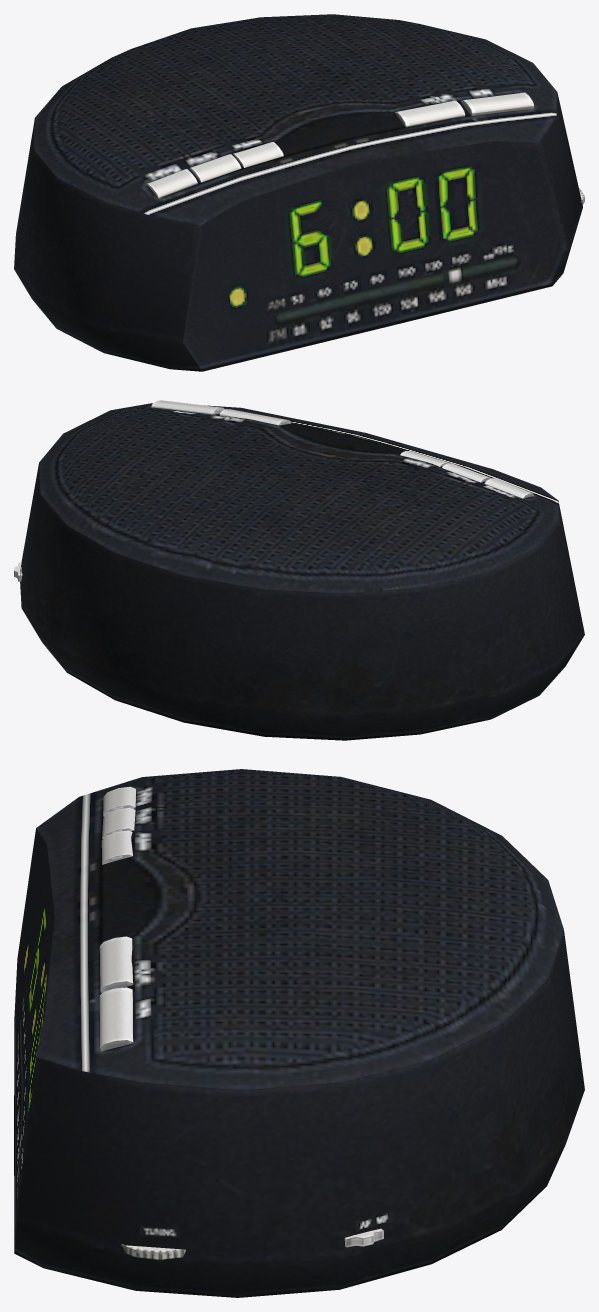
File: alarm_clock.dae
The picture shows the model from 3 angles, top to bottom: view 1: azimuth 30°, elevation 25°; view 2: azimuth 150°, elevation 25°; view 3: azimuth 270°, elevation 25°; orthographic projection. The views are drawn at different scales.
Parts seen in each view (by area): view 1: alarm_clock; view 2: alarm_clock; view 3: alarm_clock.
Boxes of the visible parts, left/top/right/bottom form: alarm_clock: left=14, top=14, right=584, bottom=371; alarm_clock: left=14, top=400, right=584, bottom=740; alarm_clock: left=14, top=769, right=584, bottom=1297.
Bounding box in the file's own units: 24.72 × 8.06 × 17.15.
